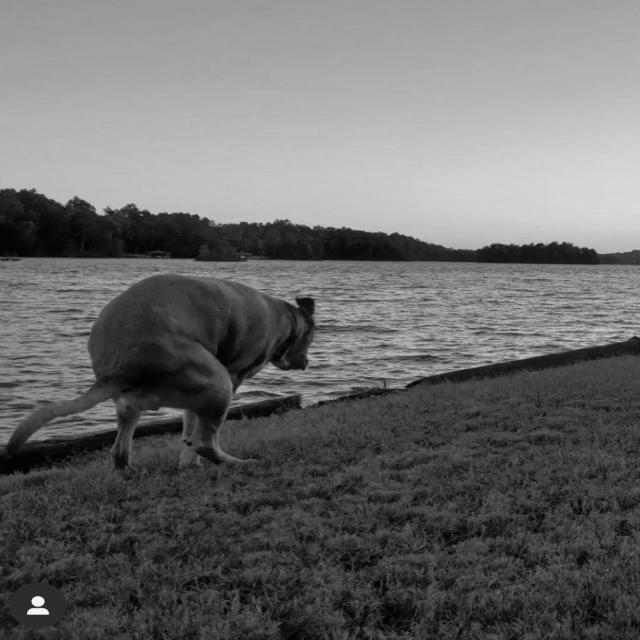squatting: (1, 268, 320, 480)
